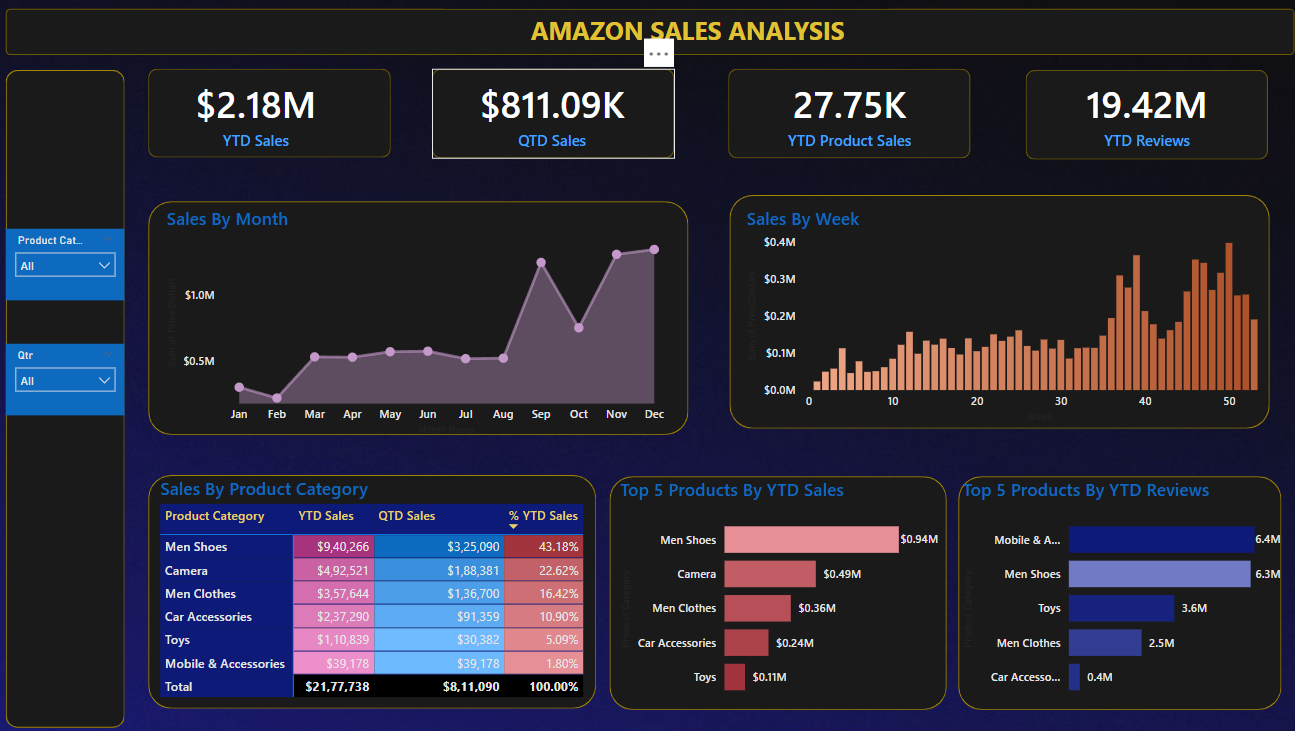

This screenshot's page, from the dashboard's own definition file:
{"tool":"powerbi","page":{"name":"Page 1","canvas":[1400,800],"ordinal":0},"visuals":[{"type":"shape","box":[9.4,14.7,1382,49.6],"z":0},{"type":"shape","box":[9,81,127.6,705.4],"z":1000},{"type":"textbox","box":[525.5,14.7,430.3,49.6],"z":2000},{"type":"shape","box":[162.2,79.1,260.1,95.2],"z":3000},{"type":"card","fields":{"Values":["Amazon_Data.YTD Sales"]},"box":[162.1,85.5,231.1,82.5],"z":4000},{"type":"shape","box":[466.2,79.5,259.6,96.1],"z":5000},{"type":"card","fields":{"Values":["Amazon_Data.QTD Sales"]},"box":[480.3,85.5,231.1,82.5],"z":6000},{"type":"shape","box":[784.7,79.5,259.6,96.1],"z":7000},{"type":"shape","box":[1103.1,81,259.6,96.1],"z":8000},{"type":"card","fields":{"Values":["Amazon_Data.YTD Product Sales"]},"box":[798.5,85.5,231.1,82.5],"z":9000},{"type":"card","fields":{"Values":["Amazon_Data.YTD Reviews"]},"box":[1118.1,85.5,231.1,82.5],"z":10000},{"type":"shape","box":[162.1,220.6,579.3,250.6],"z":11000},{"type":"areaChart","title":"Sales By Month","fields":{"Category":["Date table.Month Name"],"Y":["Sum(Amazon_Data.Price(Dollar))"]},"box":[177.1,226.6,549.3,250.6],"z":12000},{"type":"shape","box":[785,214.6,579.3,250.6],"z":13000},{"type":"columnChart","title":"Sales By Week","fields":{"Category":["Date table.Week"],"Y":["Sum(Amazon_Data.Price(Dollar))"]},"box":[798.5,226.6,579.3,237.1],"z":14000},{"type":"shape","box":[162.1,514.8,480.3,250.6],"z":15000},{"type":"pivotTable","title":"Sales By Product Category","fields":{"Rows":["Amazon_Data.Product Category"],"Values":["Amazon_Data.YTD Sales1","Amazon_Data.QTD Sales","Amazon_Data.YTD Sales"]},"box":[169.6,516.3,465.3,250.6],"z":16000},{"type":"shape","box":[657.4,516.3,361.7,250.6],"z":17000},{"type":"shape","box":[1031.1,516.3,346.7,250.6],"z":18000},{"type":"clusteredBarChart","title":"Top 5 Products By YTD Sales","fields":{"Category":["Amazon_Data.Product Category"],"Y":["Amazon_Data.YTD Sales"]},"box":[663.4,517.8,351.2,249.1],"z":19000},{"type":"clusteredBarChart","title":"Top 5 Products By YTD Reviews","fields":{"Category":["Amazon_Data.Product Category"],"Y":["Amazon_Data.YTD Reviews"]},"box":[1031.1,517.8,351.2,249.1],"z":20000},{"type":"slicer","fields":{"Values":["Amazon_Data.Product Category"]},"box":[9,250.6,127.6,76.5],"z":21000},{"type":"slicer","fields":{"Values":["Date table.Qtr"]},"box":[9,373.7,127.6,76.5],"z":22000}]}

Visuals, with their boxes in screenshot pixels (x1, y1, x2, y2), scaled from the page's 1400x800 canvas onto the 1295x731 screenshot:
shape: locate(9, 13, 1287, 59)
shape: locate(8, 74, 126, 719)
textbox: locate(486, 13, 884, 59)
shape: locate(150, 72, 391, 159)
card - Amazon_Data.YTD Sales: locate(150, 78, 364, 154)
shape: locate(431, 73, 671, 160)
card - Amazon_Data.QTD Sales: locate(444, 78, 658, 154)
shape: locate(726, 73, 966, 160)
shape: locate(1020, 74, 1260, 162)
card - Amazon_Data.YTD Product Sales: locate(739, 78, 952, 154)
card - Amazon_Data.YTD Reviews: locate(1034, 78, 1248, 154)
shape: locate(150, 202, 686, 431)
"Sales By Month" areaChart: locate(164, 207, 672, 436)
shape: locate(726, 196, 1262, 425)
"Sales By Week" columnChart: locate(739, 207, 1274, 424)
shape: locate(150, 470, 594, 699)
"Sales By Product Category" pivotTable: locate(157, 472, 587, 701)
shape: locate(608, 472, 943, 701)
shape: locate(954, 472, 1274, 701)
"Top 5 Products By YTD Sales" clusteredBarChart: locate(614, 473, 939, 701)
"Top 5 Products By YTD Reviews" clusteredBarChart: locate(954, 473, 1279, 701)
slicer - Amazon_Data.Product Category: locate(8, 229, 126, 299)
slicer - Date table.Qtr: locate(8, 341, 126, 411)
